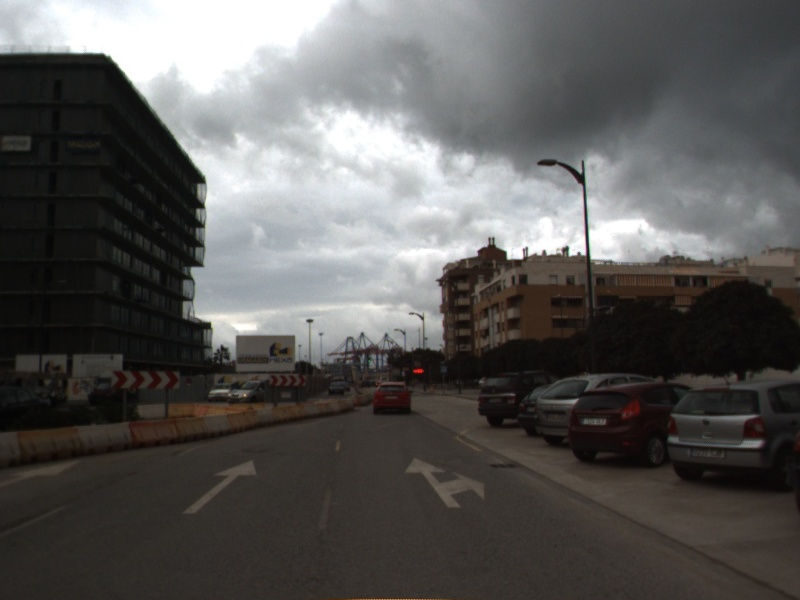STRAIGHT: (181, 457, 260, 516), (1, 457, 83, 490)
STRAIGHT_RIGHT: (403, 454, 487, 510)
